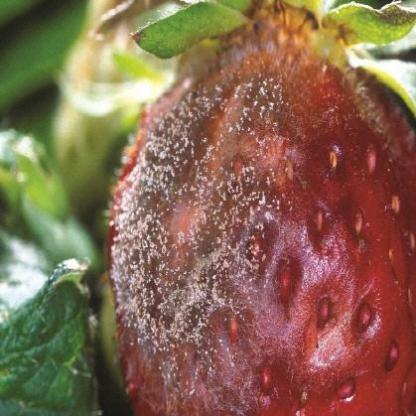Strawberry_Gray_Mold: (107, 14, 415, 415)
